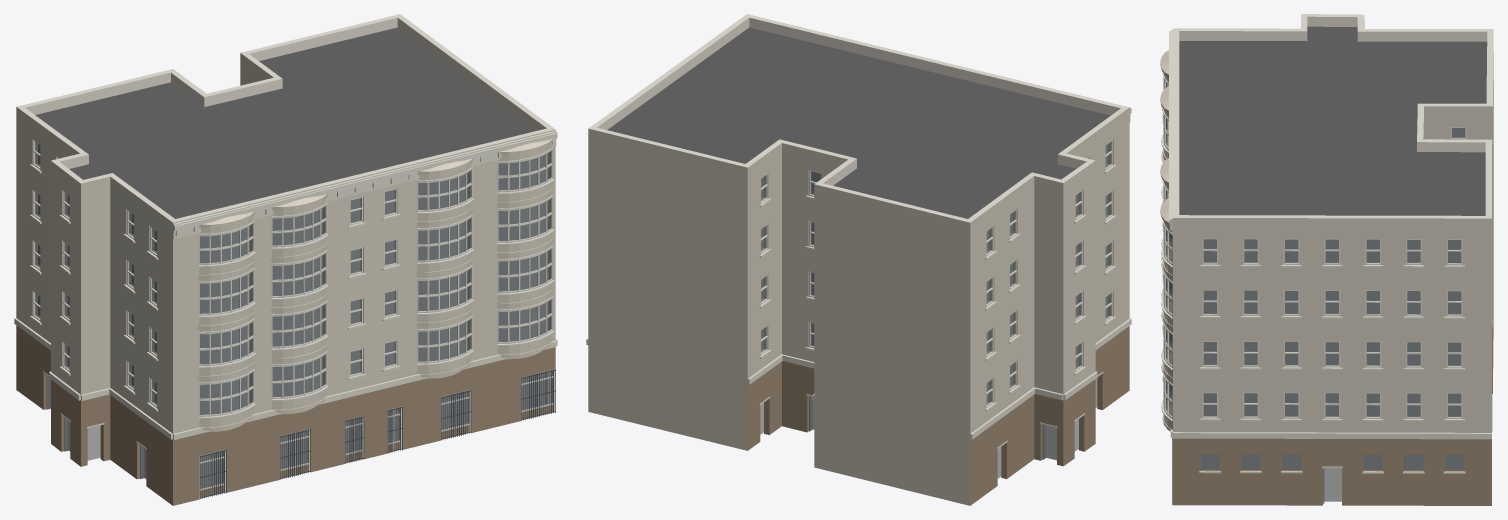
File: exterior.glb
3 renders of one model, left to right at view 1: azimuth 30°, elevation 25°; view 2: azimuth 150°, elevation 25°; view 3: azimuth 270°, elevation 25°, orthographic.
Parts seen in each view (by area): view 1: shell, roof, bay-glazing-hyb, shadow-proxy, bay-windows-hyb, trim, glazing, storefront, frames; view 2: shell, roof, glazing, trim, frames, shadow-proxy; view 3: shell, roof, glazing, shadow-proxy, frames, trim, bay-glazing-hyb, bay-windows-hyb.
Boxes of the visible parts, left/top/right/bottom form: shell: left=16, top=14, right=555, bottom=505; roof: left=35, top=27, right=536, bottom=218; bay-glazing-hyb: left=198, top=147, right=554, bottom=418; shadow-proxy: left=38, top=144, right=544, bottom=488; bay-windows-hyb: left=198, top=139, right=552, bottom=431; trim: left=14, top=130, right=557, bottom=439; glazing: left=35, top=142, right=552, bottom=488; storefront: left=43, top=369, right=555, bottom=499; frames: left=33, top=140, right=397, bottom=407; shell: left=588, top=14, right=1129, bottom=505; roof: left=607, top=27, right=1110, bottom=218; glazing: left=761, top=142, right=1110, bottom=404; trim: left=586, top=107, right=1131, bottom=439; frames: left=761, top=140, right=1112, bottom=407; shadow-proxy: left=760, top=144, right=1107, bottom=478; shell: left=1173, top=14, right=1493, bottom=505; roof: left=1179, top=26, right=1487, bottom=215; glazing: left=1201, top=128, right=1465, bottom=470; shadow-proxy: left=1201, top=128, right=1464, bottom=501; frames: left=1202, top=127, right=1466, bottom=418; trim: left=1169, top=29, right=1492, bottom=473; bay-glazing-hyb: left=1161, top=72, right=1172, bottom=421; bay-windows-hyb: left=1160, top=50, right=1172, bottom=431.
Size of the model in its own units: 25.95 by 16.84 by 17.71.
